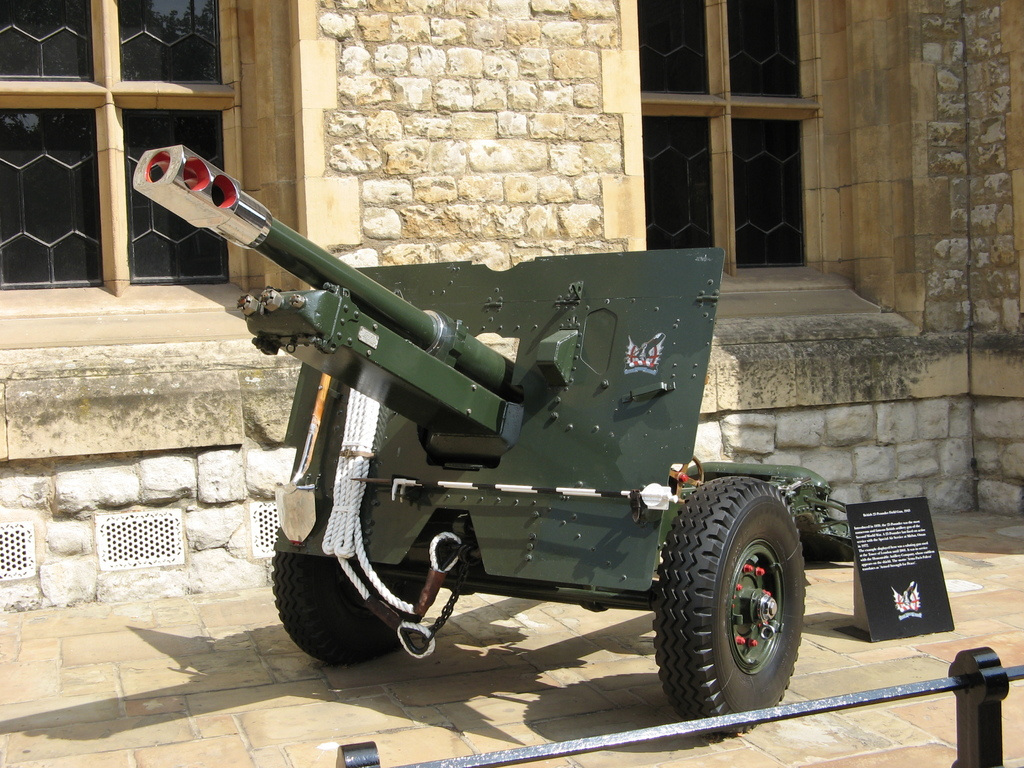Window: (0, 0, 269, 346), (650, 8, 835, 244)
